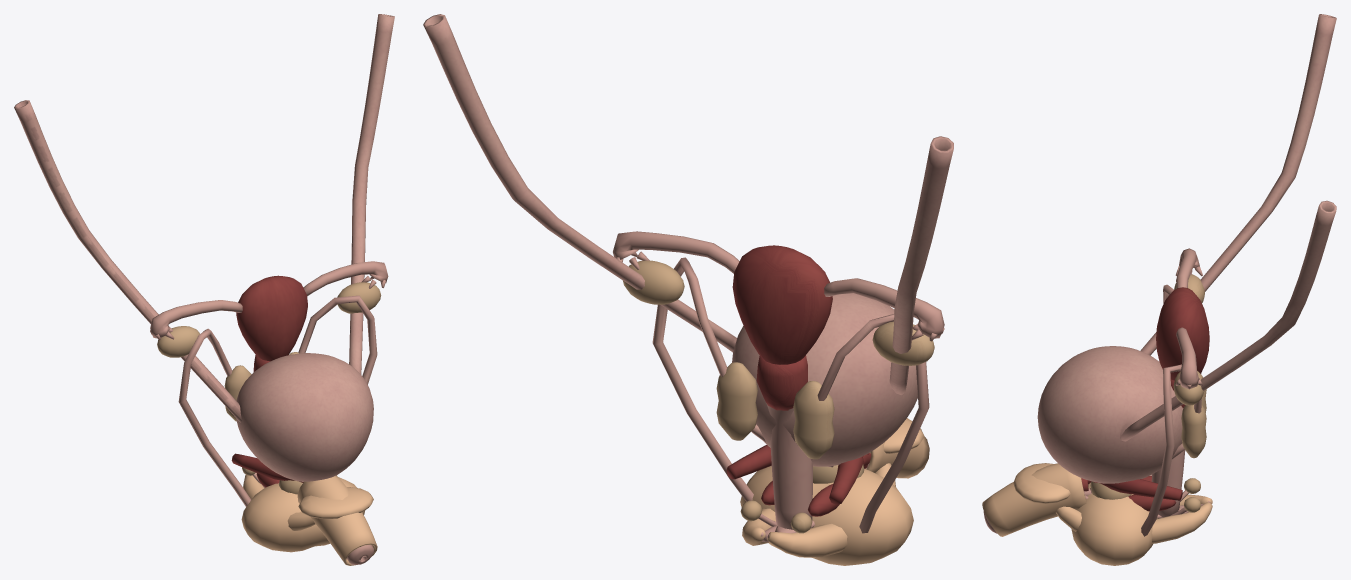
File: reproductive-raw.glb
3 renders of one model, left to right at view 1: azimuth 30°, elevation 25°; view 2: azimuth 150°, elevation 25°; view 3: azimuth 270°, elevation 25°, orthographic. The views are drawn at different scales.
Parts seen in each view (by area): view 1: bladder, ureter_L, ureter_R, female_uterus, male_scrotum, male_penis, male_ductus_deferens_L, female_mons_pubis, male_ductus_deferens_R, female_uterine_tube_L, female_uterine_tube_R, female_ovary_L (+4 smaller); view 2: bladder, female_uterus, ureter_R, male_scrotum, ureter_L, male_ductus_deferens_R, female_vagina, male_ductus_deferens_L, female_labia_majora, male_seminal_vesicle_R, male_seminal_vesicle_L, female_uterine_tube_R (+6 smaller); view 3: bladder, ureter_L, male_scrotum, ureter_R, male_penis, female_uterus, female_labia_majora, male_ductus_deferens_R, female_mons_pubis, male_seminal_vesicle_R, female_clitoral_body, female_uterine_tube_R (+3 smaller).
Part boxes in pixels (x1,y1,x2,y2): bladder: (236,353,373,481); ureter_L: (14,100,241,422); ureter_R: (349,14,394,374); female_uterus: (236,275,307,361); male_scrotum: (241,477,365,552); male_penis: (297,475,377,565); male_ductus_deferens_L: (178,328,251,506); female_mons_pubis: (298,487,373,518); male_ductus_deferens_R: (298,295,377,384); female_uterine_tube_L: (150,300,242,338); female_uterine_tube_R: (303,261,388,296); female_ovary_L: (157,326,199,357); bladder: (732,293,917,466); female_uterus: (732,245,832,364); ureter_R: (423,14,736,352); male_scrotum: (740,466,913,565); ureter_L: (889,136,953,395); male_ductus_deferens_R: (652,257,753,501); female_vagina: (766,403,812,529); male_ductus_deferens_L: (817,314,929,533); female_labia_majora: (742,463,895,557); male_seminal_vesicle_R: (716,362,757,440); male_seminal_vesicle_L: (793,381,834,459); female_uterine_tube_R: (613,231,739,273); bladder: (1037,346,1182,483); ureter_L: (1140,14,1336,355); male_scrotum: (1071,482,1157,565); ureter_R: (1120,200,1336,441); male_penis: (982,463,1086,536); female_uterus: (1156,287,1209,380); female_labia_majora: (1056,494,1212,543); male_ductus_deferens_R: (1141,364,1201,536); female_mons_pubis: (1013,463,1070,503); male_seminal_vesicle_R: (1181,404,1206,458); female_clitoral_body: (1087,479,1182,500); female_uterine_tube_R: (1176,327,1199,388).
Bounding box in the file's own units: 1.31 × 1.37 × 0.9893.
Materials: 4 (3 with a texture image).
